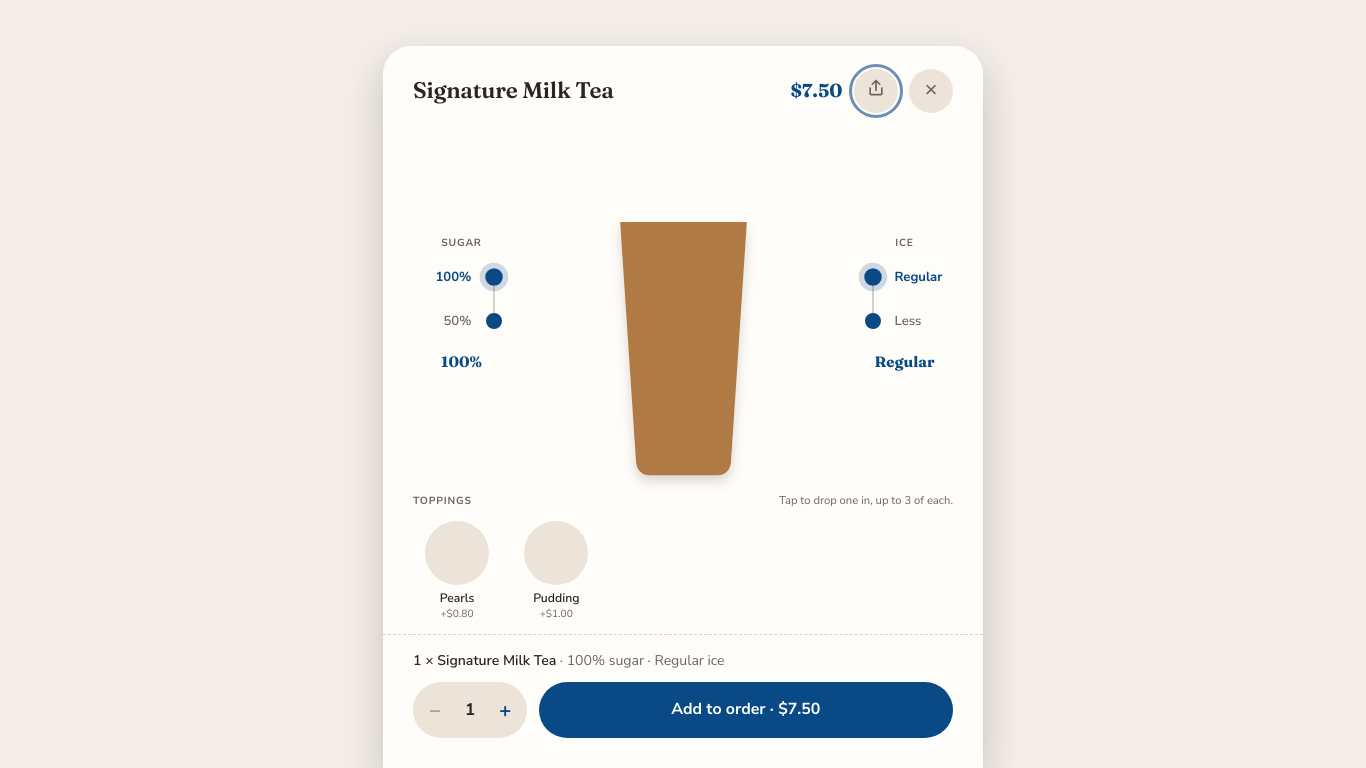
CustomiseDrinkDialog › reads the drink, choices and toppings back in one line
Click the button with aria-label "Add Pearls".
click(457, 570)  # box [413,517,501,622]
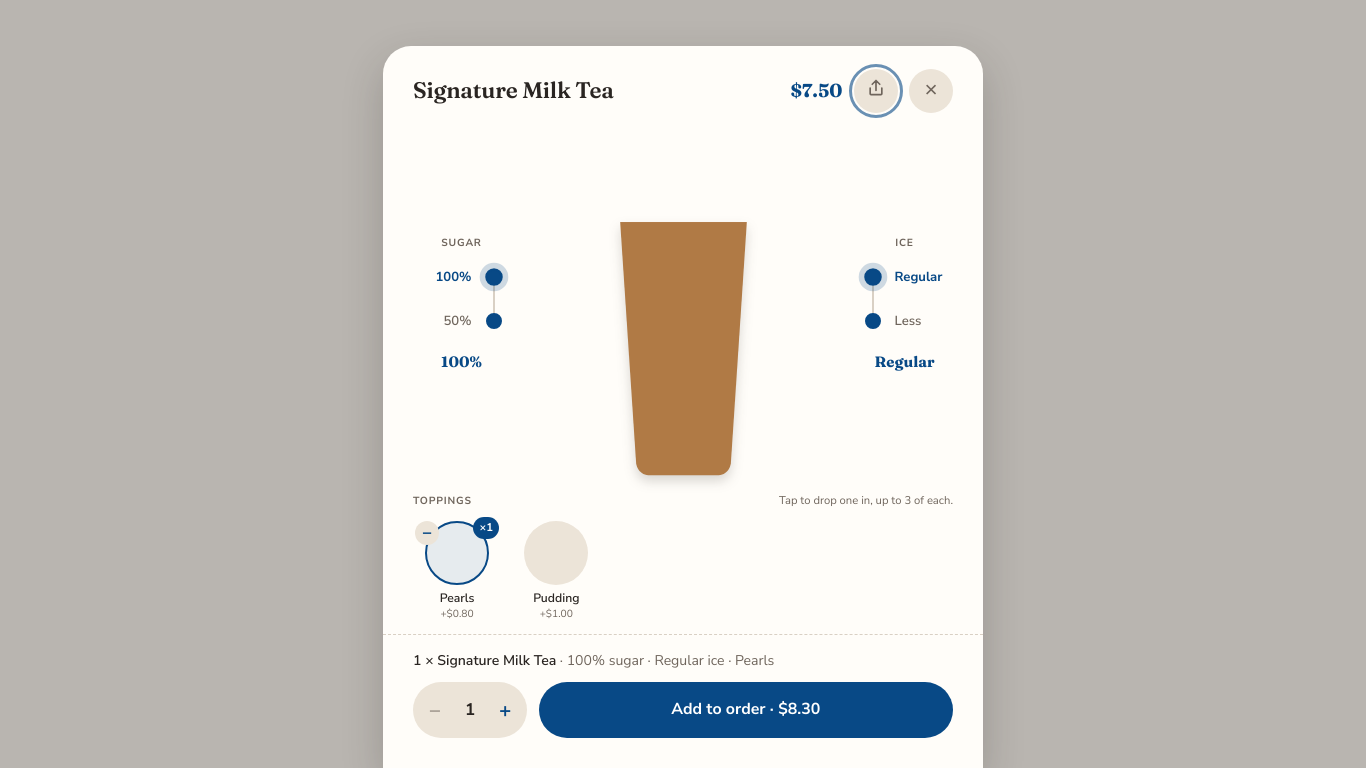
Click the button named "One more".
click(505, 710)  # box [483,688,527,732]
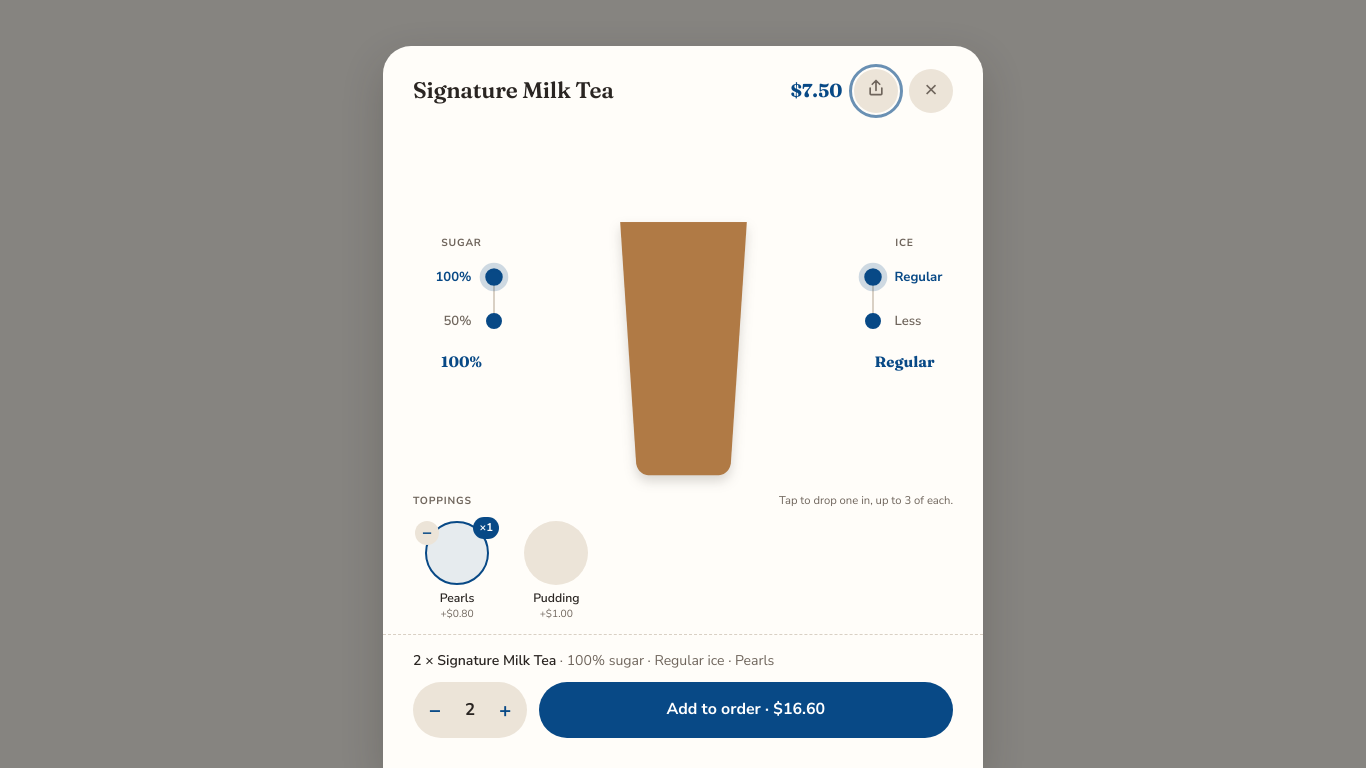
Now the element named "Order summary" shows "100% sugar · Regular ice · Pearls", box [567,651,774,670]
Now the element named "Order summary" shows "2 × Signature Milk Tea", box [413,651,774,670]
Now the button "Add to order · $16.60" is shown, box [538,682,953,738]
